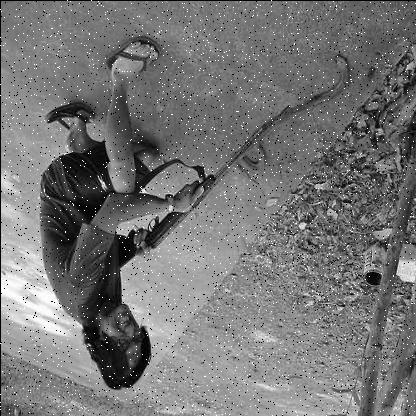rifle: (122, 93, 295, 270)
